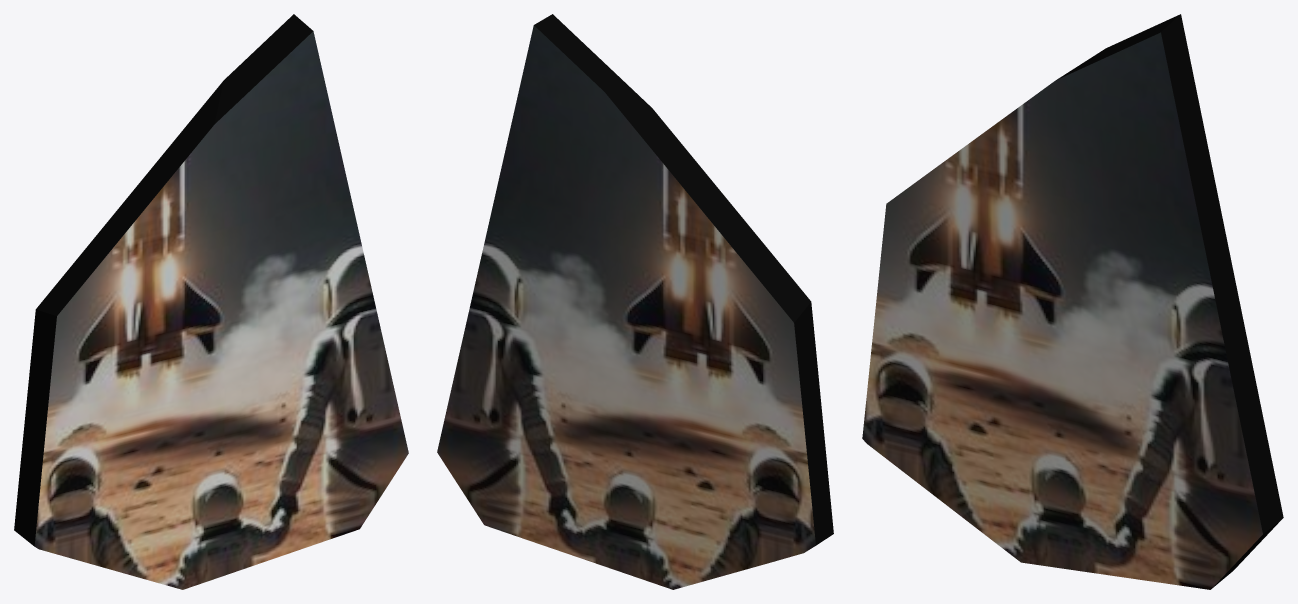
The model's file is Puzzle_2_Cell_14.glb.
3 views of the same model, side by side, from view 1: azimuth 30°, elevation 25°; view 2: azimuth 150°, elevation 25°; view 3: azimuth 330°, elevation 25° (orthographic). The views are drawn at different scales.
Parts seen in each view (by area): view 1: Puzzle_1_cell.014; view 2: Puzzle_1_cell.014; view 3: Puzzle_1_cell.014.
Boxes of the visible parts, x1=… form: Puzzle_1_cell.014: x1=14, y1=14, x2=408, y2=589; Puzzle_1_cell.014: x1=437, y1=14, x2=833, y2=589; Puzzle_1_cell.014: x1=862, y1=14, x2=1283, y2=589.
Bounding box in the file's own units: 1.7 × 2.29 × 0.15.
Materials: 2 (1 with a texture image).
